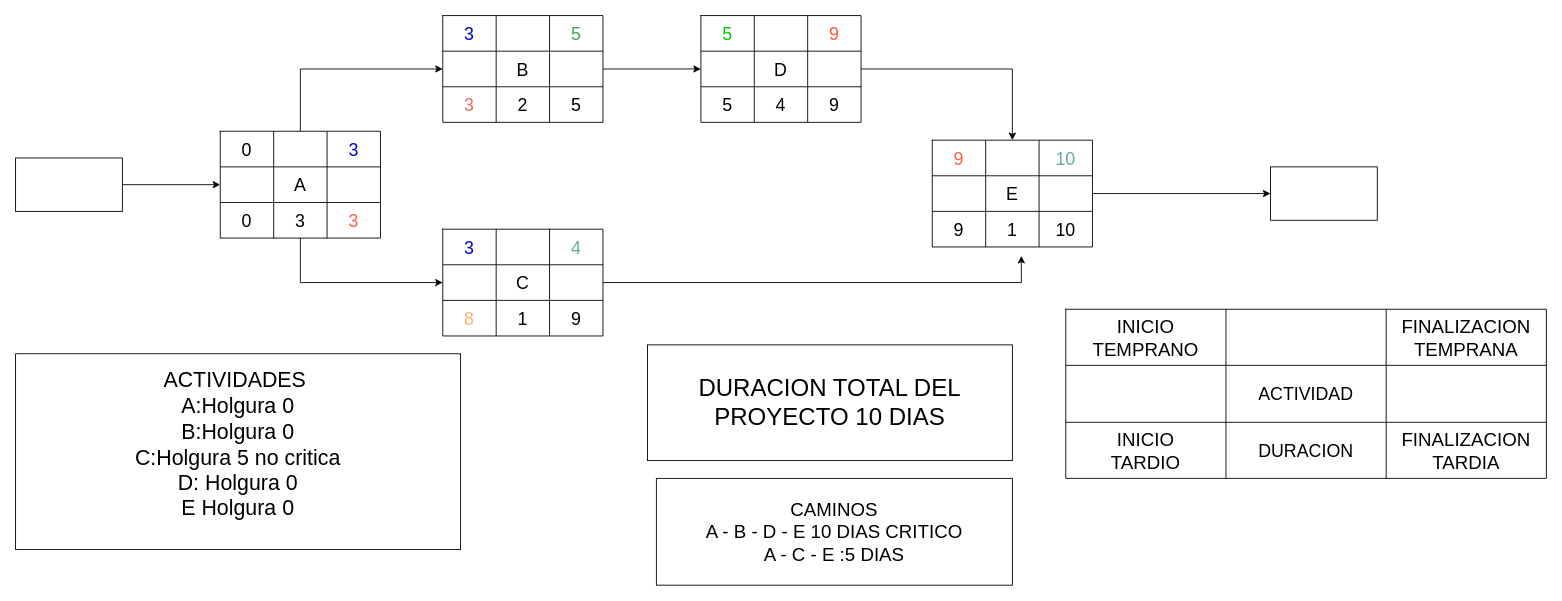
The diagram is 1562 pixels wide and 601 high, and some of its shapes have lost their labels. Here are the shapes that lost their labels. From the top down, the centre of each, then its label:
the point at 68,184: INICIO
the point at 1323,193: FIN
